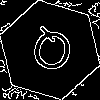Q: (25, 25, 78, 82)
